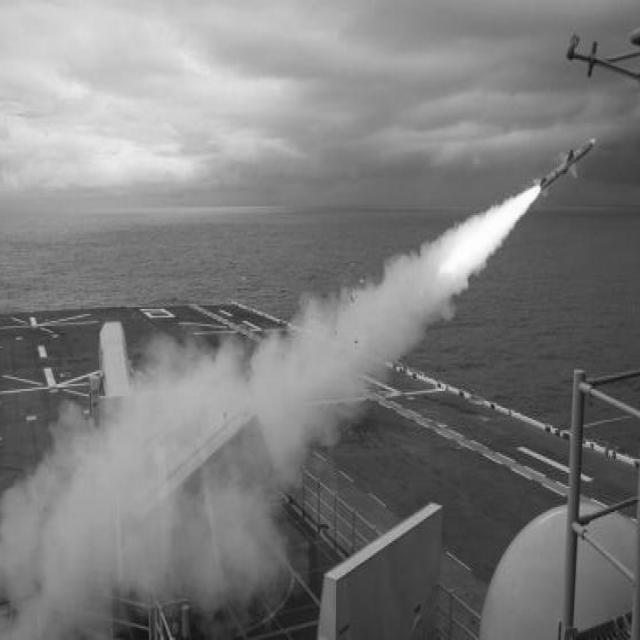missile: (523, 118, 598, 200)
